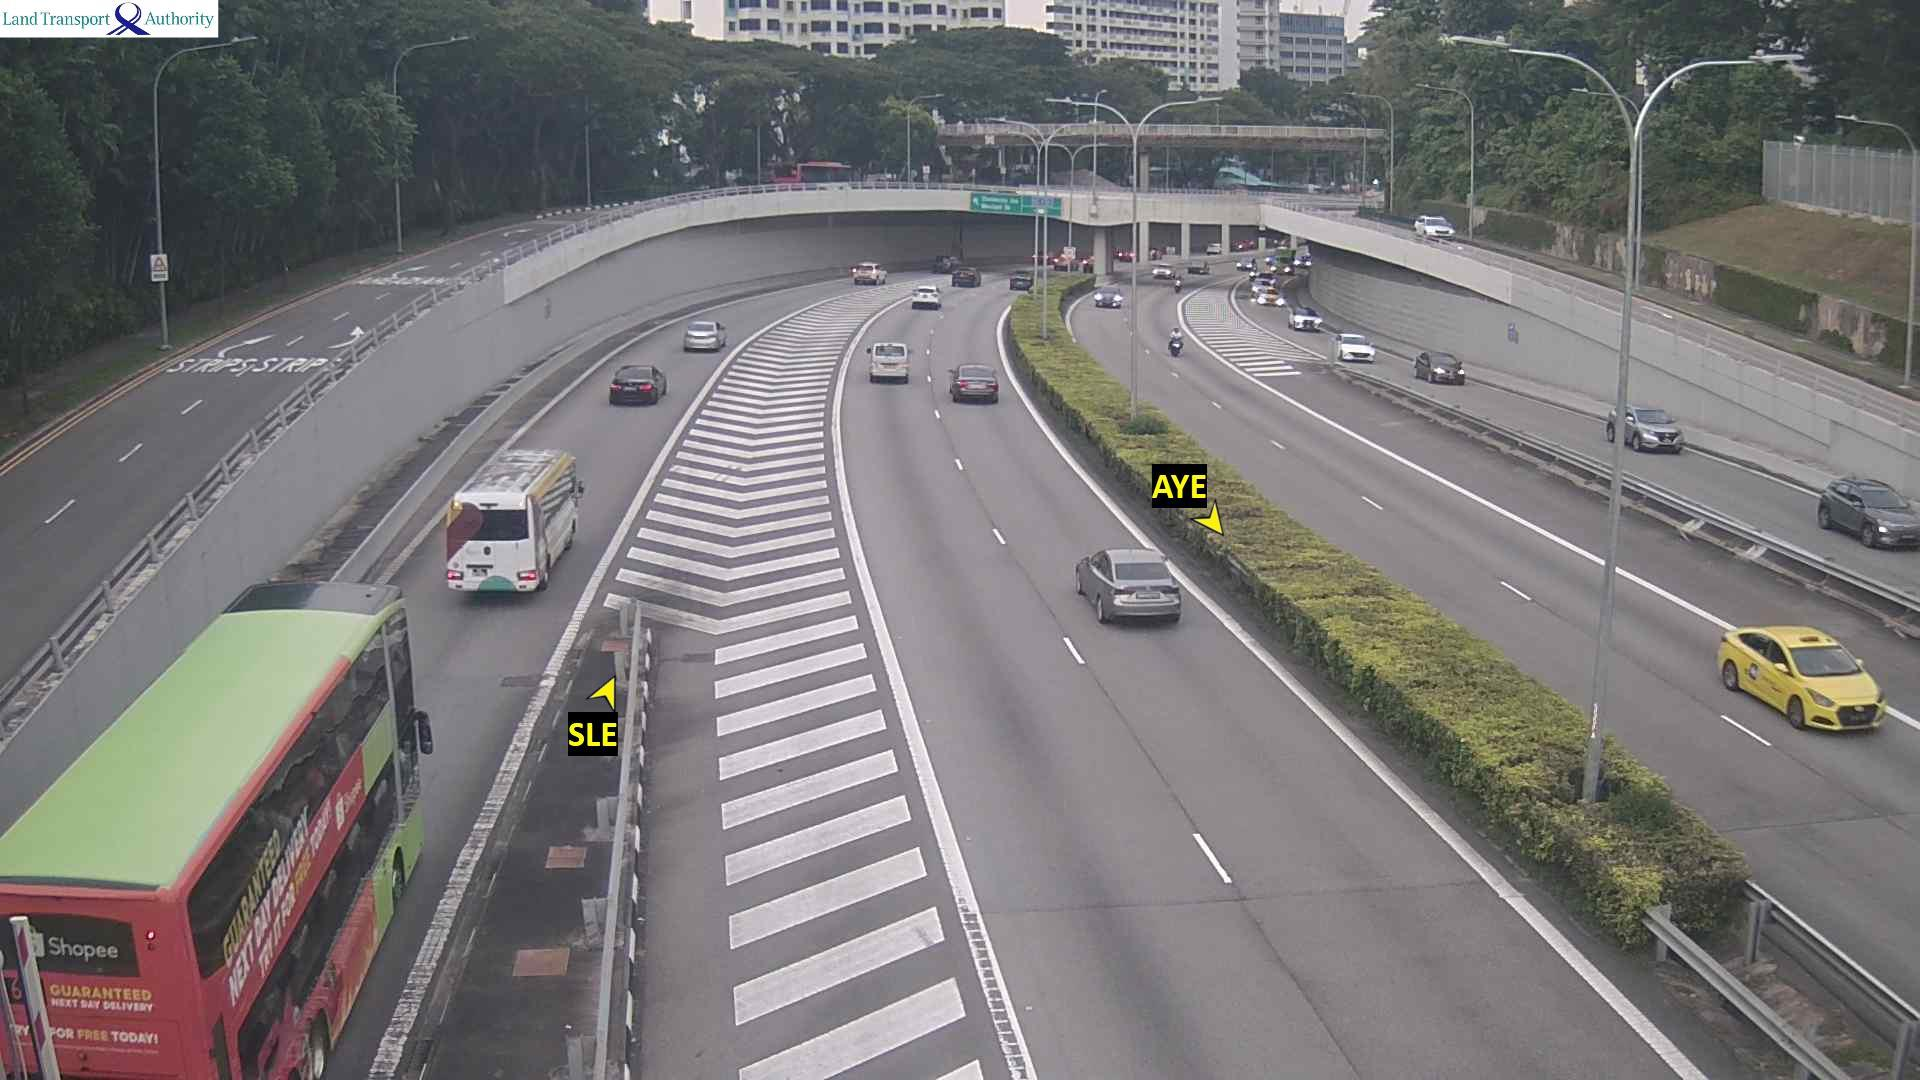incoming: (1780, 637, 1887, 731), (1854, 483, 1920, 548), (1631, 409, 1686, 454), (1424, 353, 1464, 385), (1338, 336, 1377, 362), (1420, 215, 1458, 238), (1095, 284, 1123, 309), (1292, 309, 1322, 331), (1257, 289, 1287, 310), (1272, 249, 1293, 275), (1187, 260, 1209, 276), (1235, 256, 1257, 272), (1154, 263, 1173, 281), (1171, 336, 1183, 357)
